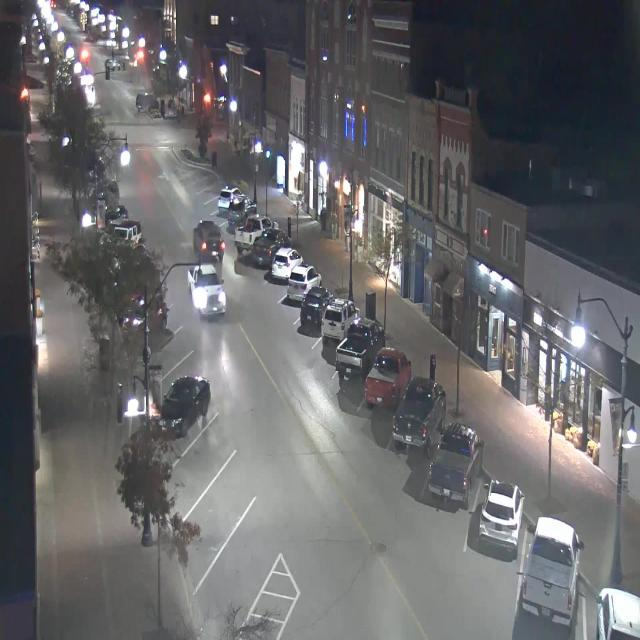available: (230, 490, 298, 582), (205, 439, 262, 517), (190, 409, 240, 469), (157, 319, 196, 378)
occupied: (520, 514, 584, 630), (428, 421, 483, 509), (391, 375, 446, 455), (478, 478, 525, 558), (159, 373, 211, 438), (336, 313, 382, 382), (364, 346, 411, 410), (595, 586, 640, 639), (321, 293, 356, 346), (234, 213, 272, 261), (300, 284, 334, 328), (252, 230, 290, 269), (286, 262, 322, 303), (268, 246, 304, 286), (226, 197, 256, 229), (217, 184, 240, 216)
